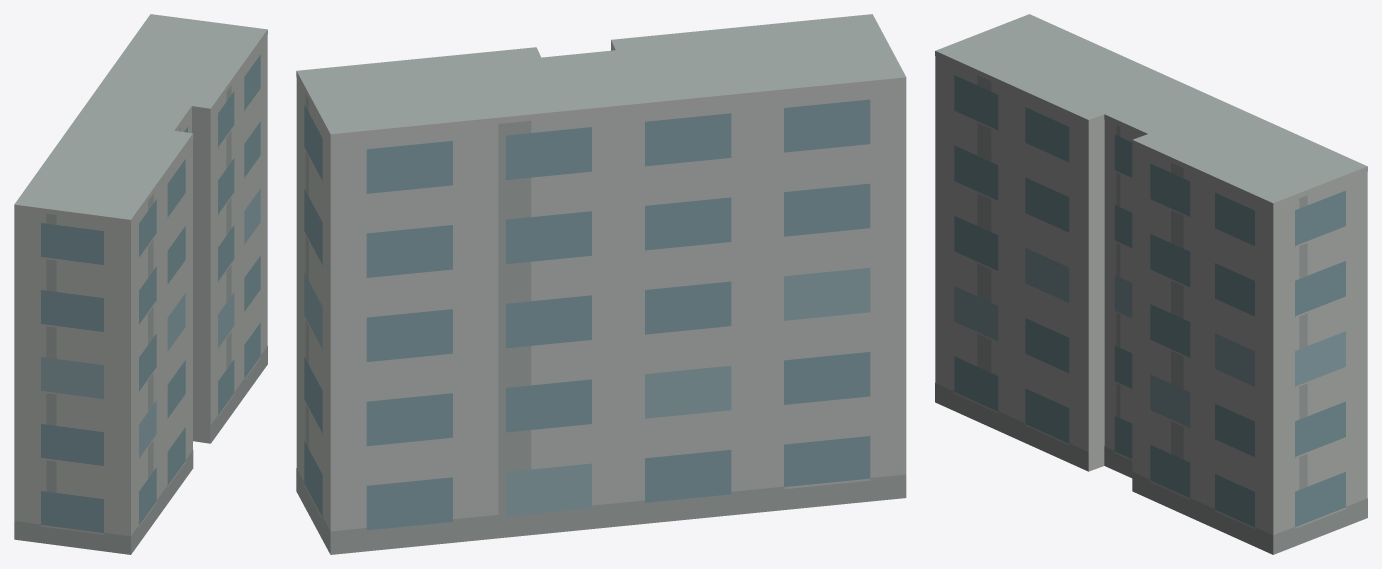
File: survey-upis-32806423.glb
The picture shows the model from 3 angles, left to right: view 1: azimuth 30°, elevation 25°; view 2: azimuth 150°, elevation 25°; view 3: azimuth 270°, elevation 25°; orthographic projection. The views are drawn at different scales.
Parts seen in each view (by area): view 1: survey-upis-32806423.tmp; view 2: survey-upis-32806423.tmp; view 3: survey-upis-32806423.tmp.
Part boxes in pixels (left/top/right/bottom): survey-upis-32806423.tmp: left=14, top=14, right=267, bottom=554; survey-upis-32806423.tmp: left=296, top=14, right=906, bottom=554; survey-upis-32806423.tmp: left=935, top=14, right=1367, bottom=554.
Bounding box in the file's own units: 18.95 × 16.4 × 18.29.
